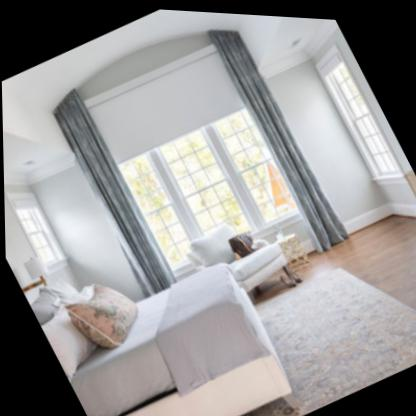Curtains: (208, 29, 349, 249), (53, 88, 174, 291)
